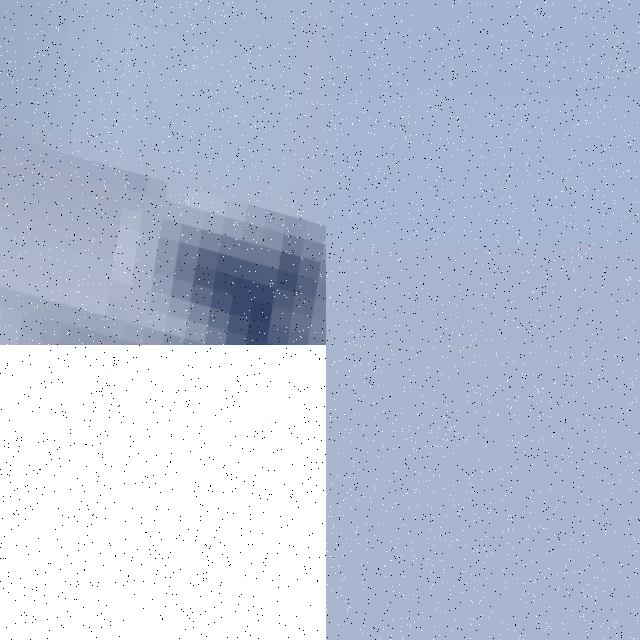0: (0, 0, 326, 345)
drone: (0, 345, 326, 640)
